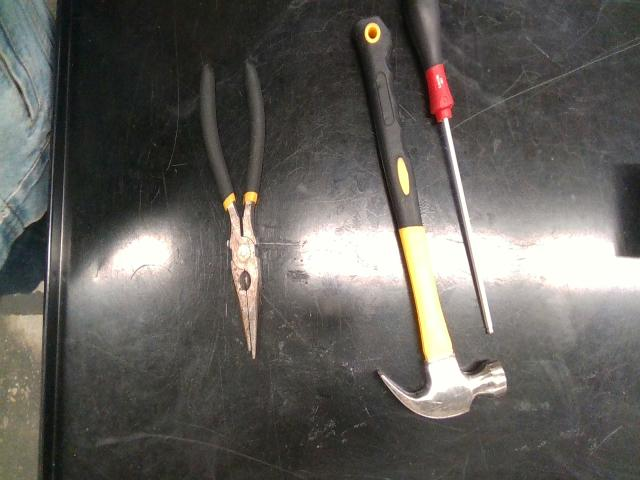Hammer: (354, 17, 506, 418)
Needle-nose pliers: (200, 60, 265, 358)
Screwdriver: (402, 0, 492, 333)
